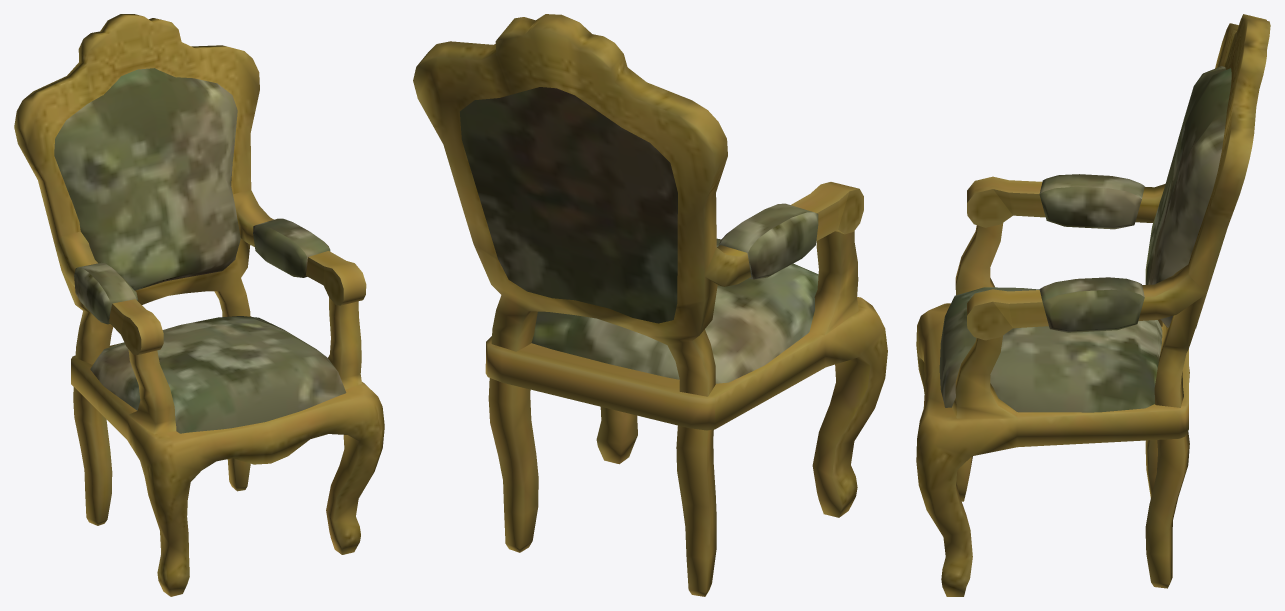
The picture shows the model from 3 angles, left to right: view 1: azimuth 30°, elevation 25°; view 2: azimuth 150°, elevation 25°; view 3: azimuth 270°, elevation 25°; orthographic projection. The views are drawn at different scales.
Bounding box in the file's own units: 6.59 × 12.35 × 7.54.
2 materials, 2 textured.
